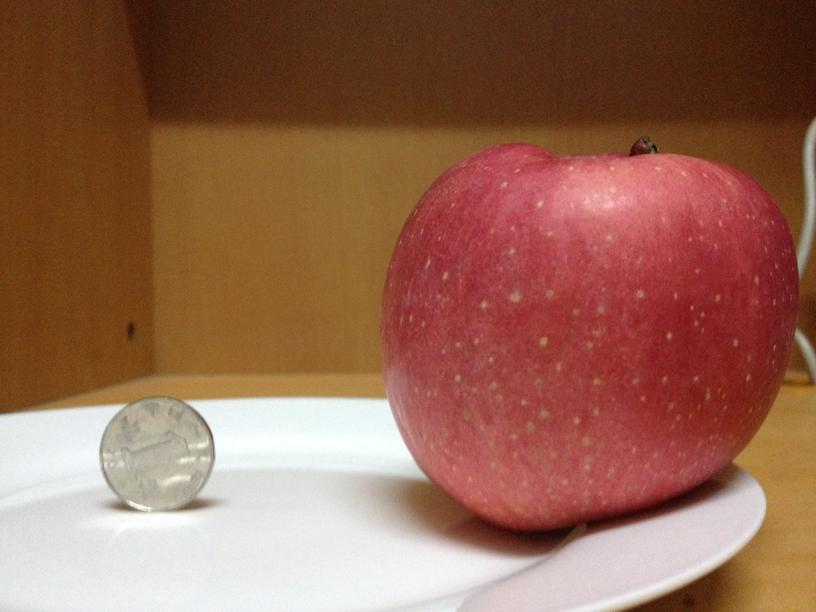apple: (377, 135, 799, 533)
coin: (87, 388, 210, 518)
